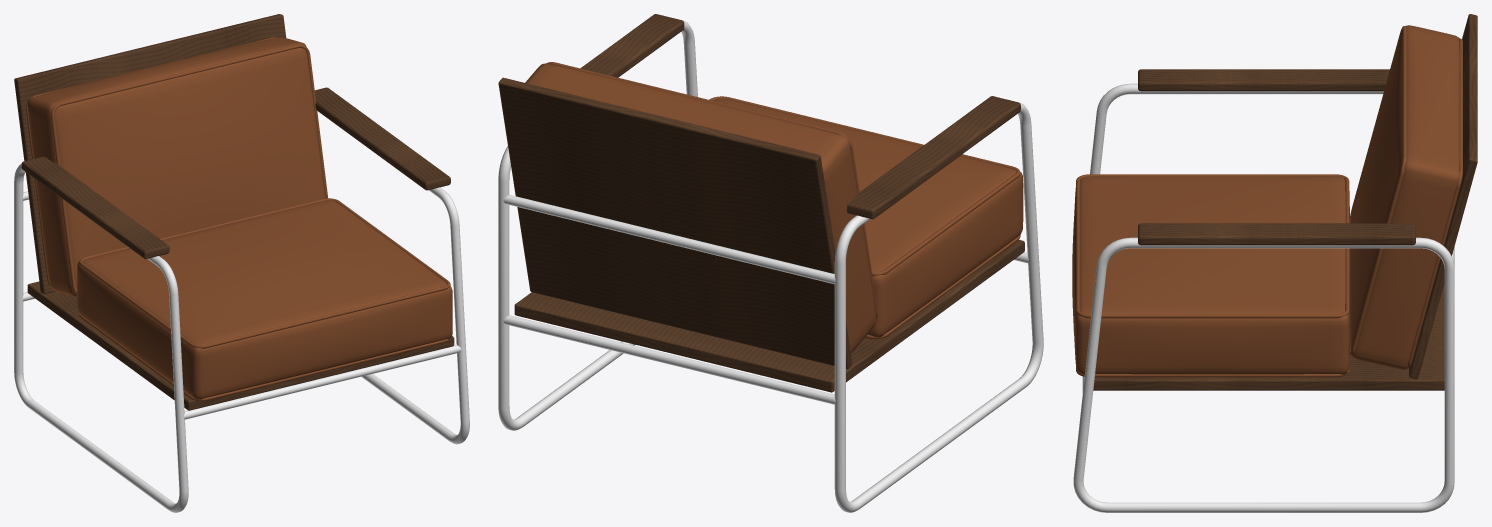
The model's file is lounge_chair.glb.
3 renders of one model, left to right at view 1: azimuth 30°, elevation 25°; view 2: azimuth 150°, elevation 25°; view 3: azimuth 270°, elevation 25°, orthographic. The views are drawn at different scales.
Visible parts, largest first — view 1: LoungeChair_SeatCushion, LoungeChair_BackCushion, LoungeChair_BackPanel, LoungeChair_Frame_L, LoungeChair_SeatBoard, LoungeChair_ArmCap_L, LoungeChair_ArmCap_R, LoungeChair_Frame_R, LoungeChair_SeatCushion_Piping0, LoungeChair_RailFront, LoungeChair_BackCushion_Piping1, LoungeChair_SeatCushion_Piping1 (+1 smaller); view 2: LoungeChair_BackPanel, LoungeChair_SeatCushion, LoungeChair_BackCushion, LoungeChair_SeatBoard, LoungeChair_Frame_L, LoungeChair_ArmCap_L, LoungeChair_Frame_R, LoungeChair_RailBack, LoungeChair_RailRear, LoungeChair_ArmCap_R, LoungeChair_SeatCushion_Piping0, LoungeChair_BackCushion_Piping1 (+1 smaller); view 3: LoungeChair_SeatCushion, LoungeChair_BackCushion, LoungeChair_Frame_R, LoungeChair_SeatBoard, LoungeChair_ArmCap_R, LoungeChair_ArmCap_L, LoungeChair_BackPanel, LoungeChair_SeatCushion_Piping0, LoungeChair_Frame_L, LoungeChair_BackCushion_Piping1, LoungeChair_BackCushion_Piping0, LoungeChair_SeatCushion_Piping1.
Part boxes in pixels (left/top/right/bottom): LoungeChair_SeatCushion: left=77, top=200, right=452, bottom=399; LoungeChair_BackCushion: left=27, top=37, right=325, bottom=296; LoungeChair_BackPanel: left=14, top=14, right=286, bottom=293; LoungeChair_Frame_L: left=14, top=163, right=188, bottom=512; LoungeChair_SeatBoard: left=27, top=281, right=454, bottom=410; LoungeChair_ArmCap_L: left=21, top=156, right=169, bottom=258; LoungeChair_ArmCap_R: left=314, top=87, right=450, bottom=190; LoungeChair_Frame_R: left=361, top=187, right=469, bottom=444; LoungeChair_SeatCushion_Piping0: left=79, top=198, right=450, bottom=348; LoungeChair_RailFront: left=184, top=345, right=461, bottom=419; LoungeChair_BackCushion_Piping1: left=51, top=44, right=327, bottom=294; LoungeChair_SeatCushion_Piping1: left=79, top=314, right=449, bottom=401; LoungeChair_BackPanel: left=498, top=77, right=852, bottom=368; LoungeChair_SeatCushion: left=713, top=98, right=1023, bottom=337; LoungeChair_BackCushion: left=525, top=63, right=876, bottom=353; LoungeChair_SeatBoard: left=514, top=240, right=1024, bottom=392; LoungeChair_Frame_L: left=834, top=102, right=1043, bottom=512; LoungeChair_ArmCap_L: left=847, top=96, right=1020, bottom=219; LoungeChair_Frame_R: left=498, top=20, right=697, bottom=430; LoungeChair_RailBack: left=503, top=194, right=835, bottom=284; LoungeChair_RailRear: left=503, top=315, right=835, bottom=404; LoungeChair_ArmCap_R: left=580, top=14, right=684, bottom=77; LoungeChair_SeatCushion_Piping0: left=709, top=96, right=1020, bottom=275; LoungeChair_BackCushion_Piping1: left=547, top=62, right=877, bottom=318; LoungeChair_SeatCushion: left=1072, top=176, right=1350, bottom=374; LoungeChair_BackCushion: left=1350, top=25, right=1460, bottom=369; LoungeChair_Frame_R: left=1073, top=237, right=1454, bottom=512; LoungeChair_SeatBoard: left=1093, top=283, right=1444, bottom=390; LoungeChair_ArmCap_R: left=1138, top=223, right=1415, bottom=245; LoungeChair_ArmCap_L: left=1138, top=69, right=1389, bottom=91; LoungeChair_BackPanel: left=1409, top=14, right=1477, bottom=379; LoungeChair_SeatCushion_Piping0: left=1076, top=174, right=1349, bottom=318; LoungeChair_Frame_L: left=1073, top=83, right=1454, bottom=331; LoungeChair_BackCushion_Piping1: left=1349, top=26, right=1406, bottom=356; LoungeChair_BackCushion_Piping0: left=1407, top=38, right=1462, bottom=368; LoungeChair_SeatCushion_Piping1: left=1076, top=366, right=1349, bottom=377.
Bounding box in the file's own units: 0.83 × 0.8028 × 0.8458.
3 materials, 1 textured.
